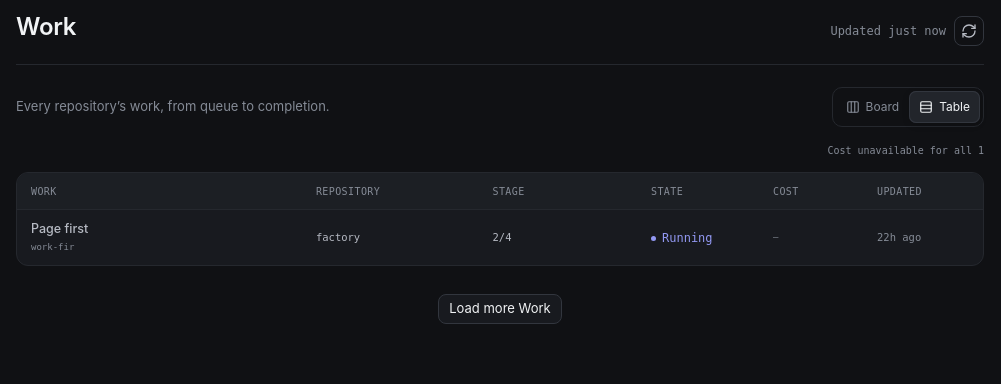
Test: Work board › stops polling once history is loaded, so the poll cost stays bounded
The image size is (1001, 384).
Check: the text "Page first" is shown, box [31, 221, 88, 236]
Click the button "Load more Work" at (500, 309), box [438, 294, 562, 324]
Wait 30000 ms
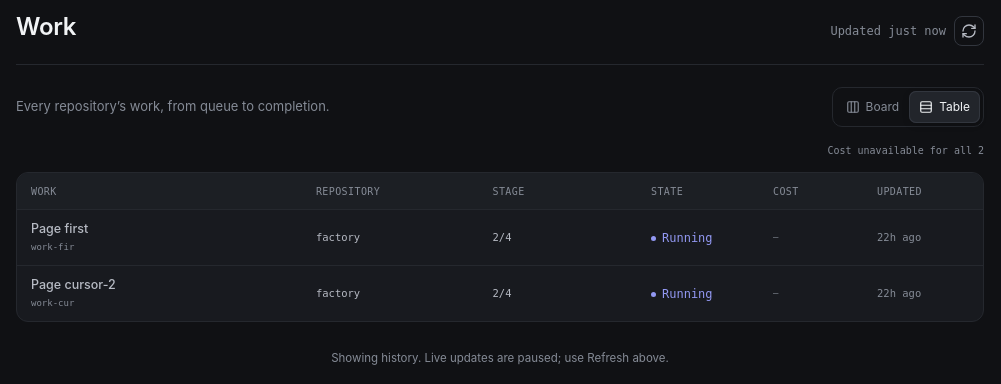
Check: the text "Page cursor-2" is shown, box [31, 277, 116, 292]
Check: the text "Showing history. Live updates are paused; use Refresh above." is shown, box [331, 350, 669, 367]
